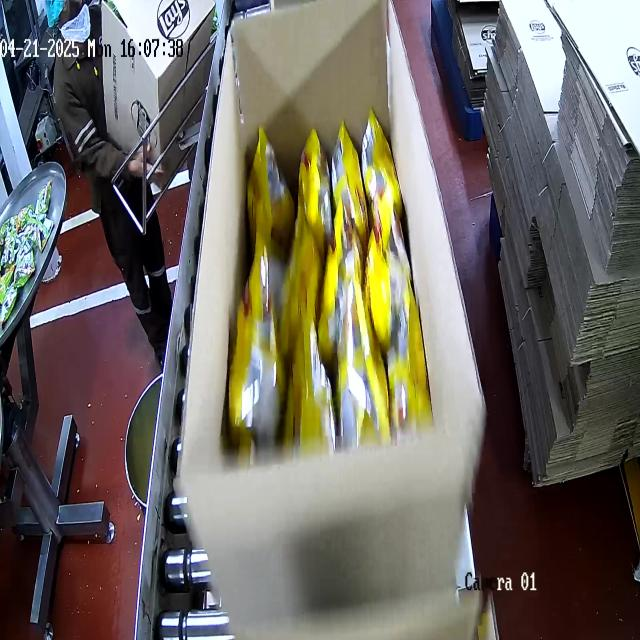SALTED: (227, 116, 410, 457)
